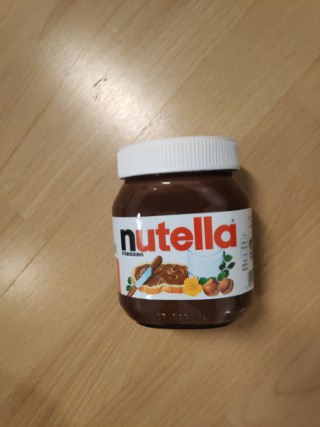nutella: (110, 135, 253, 330)
